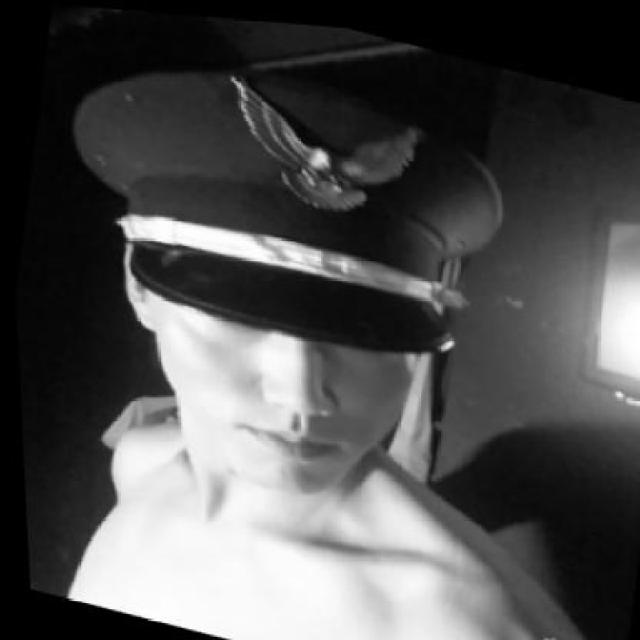hat: (38, 19, 533, 383)
